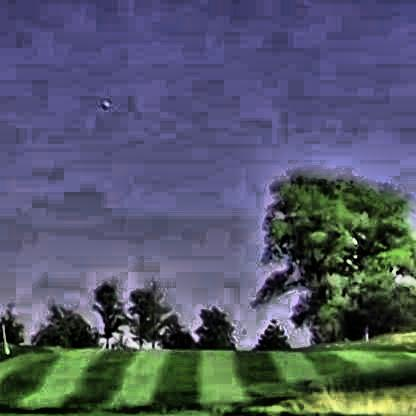golfball: (99, 99, 107, 107)
